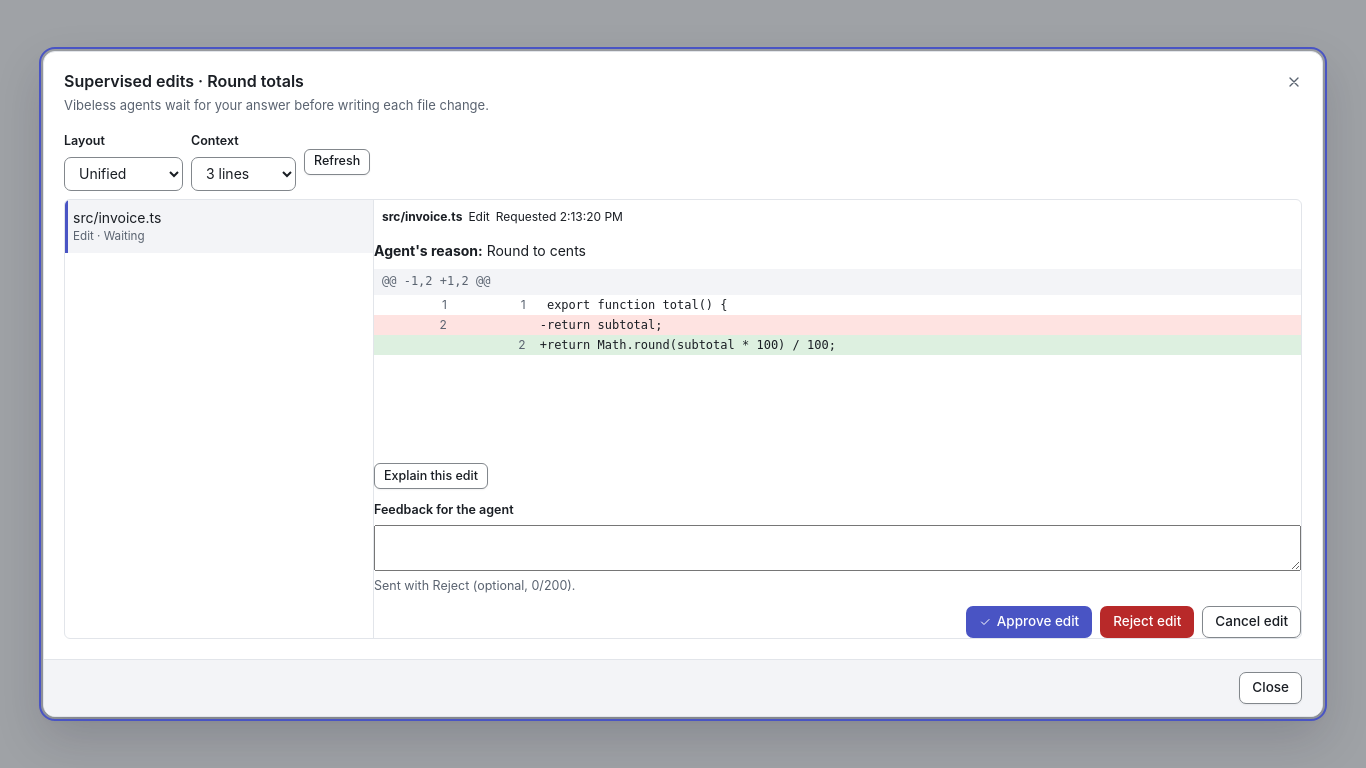
Test: shows the pending diff and sends an approval only after explicit confirmation, once
Expected: the text "+return Math.round(subtotal * 100) / 100;" is shown, [540,338,836,352]
Expected: the text "Round to cents" is shown, [487,242,586,259]
Step 1. Click the button "Approve edit" → point(1029, 622), box [966,606,1092,638]
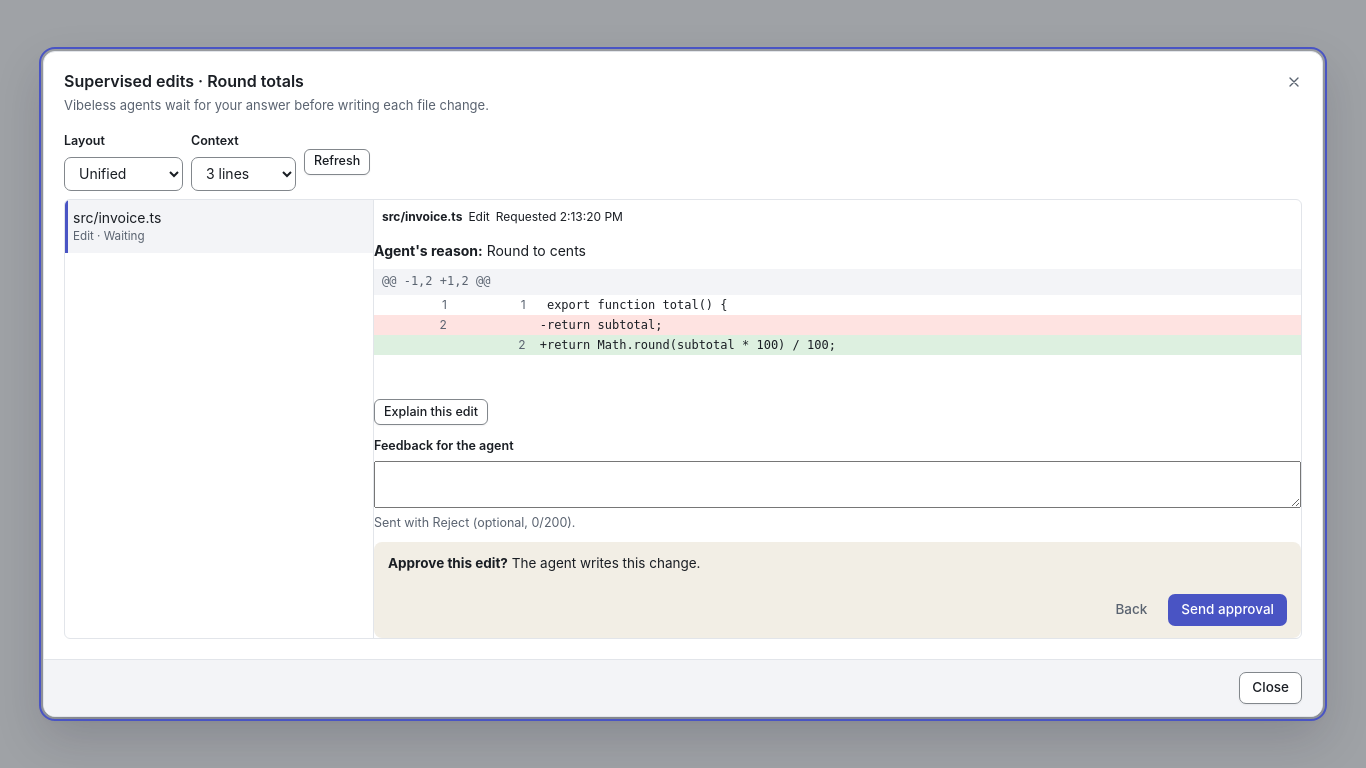
Now the text "Approve this edit? The agent writes this change." is shown, box [388,555,700,571]
Step 2. Click the button "Send approval" → point(1228, 610), box [1168,594,1287,626]
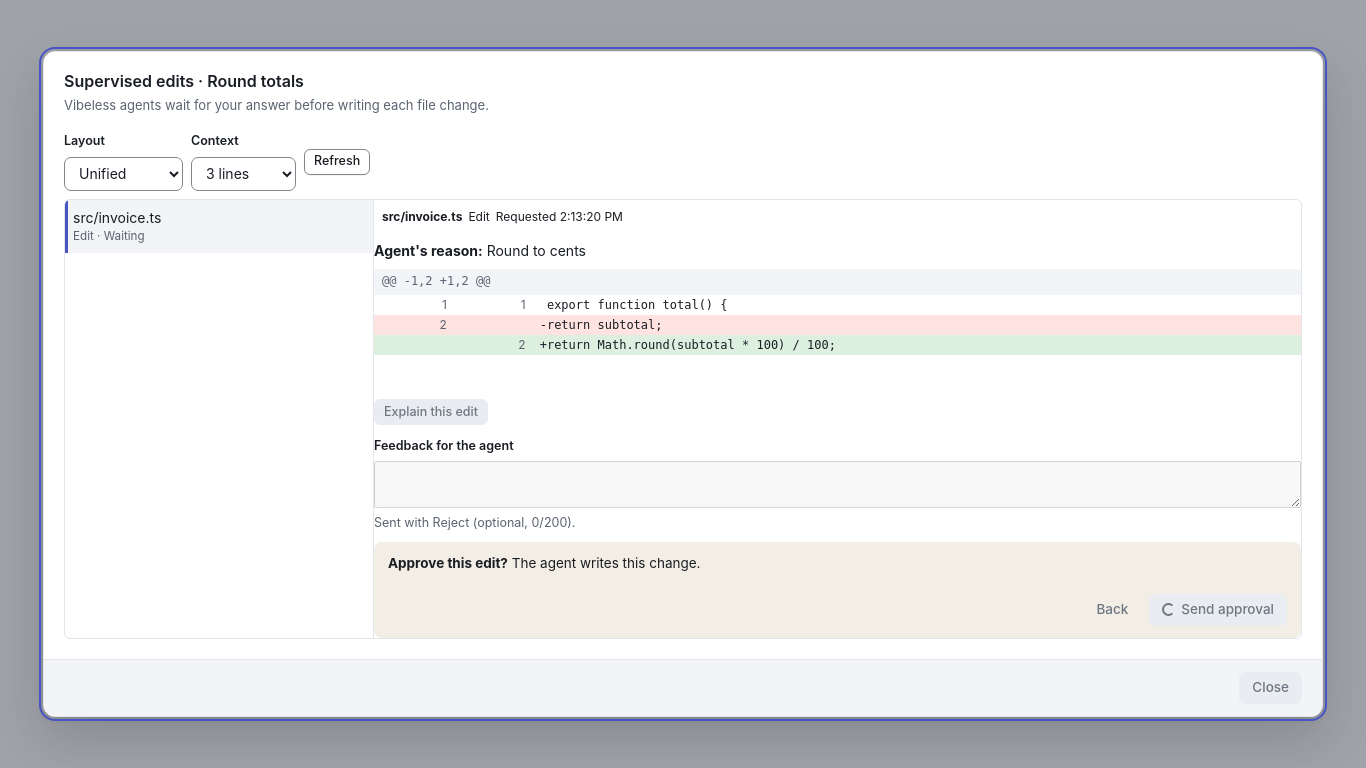
Step 3. Click the button "Send approval" → point(1218, 610), box [1149,594,1287,626]
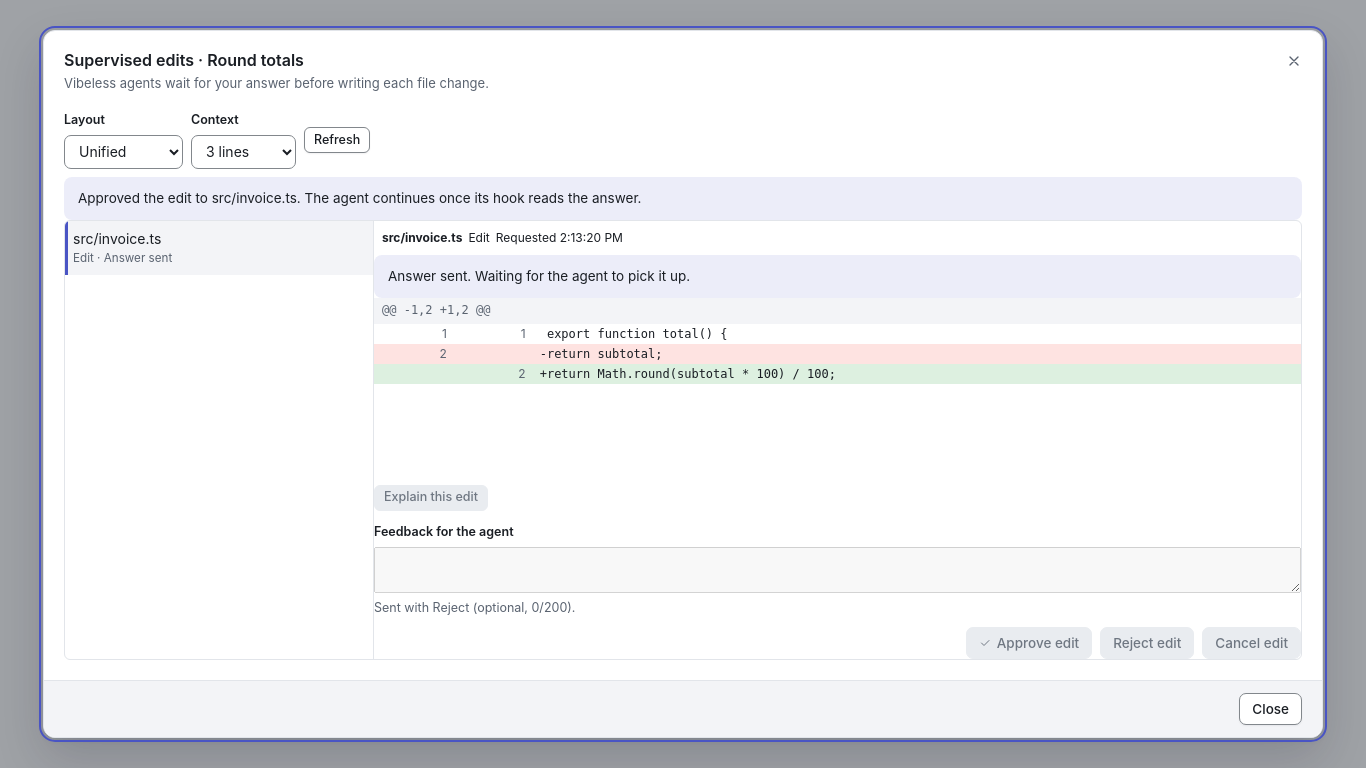
Now the text "Approved the edit to src/invoice.ts" is shown, box [78,190,642,206]
Now the text "Answer sent. Waiting for the agent to pick it up." is shown once, box [374,255,1301,298]
Now the button "Approve edit" is disabled, box [966,627,1092,659]
